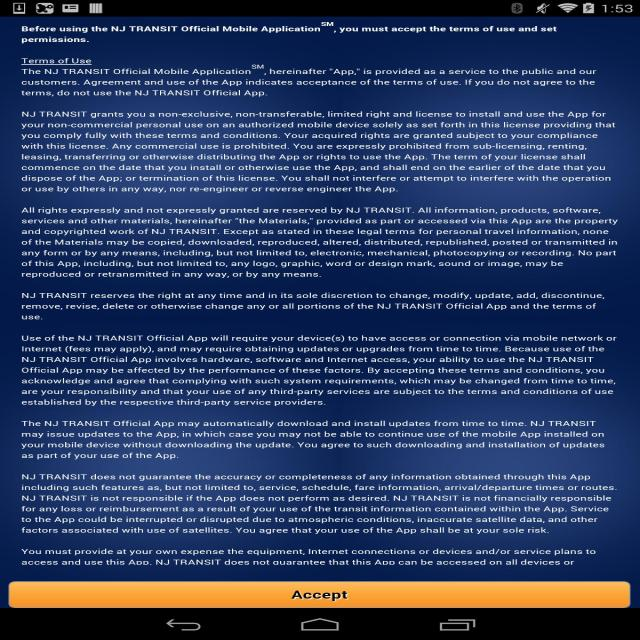button: (18, 57, 620, 573), (9, 580, 632, 610)
heading: (20, 25, 562, 44)
